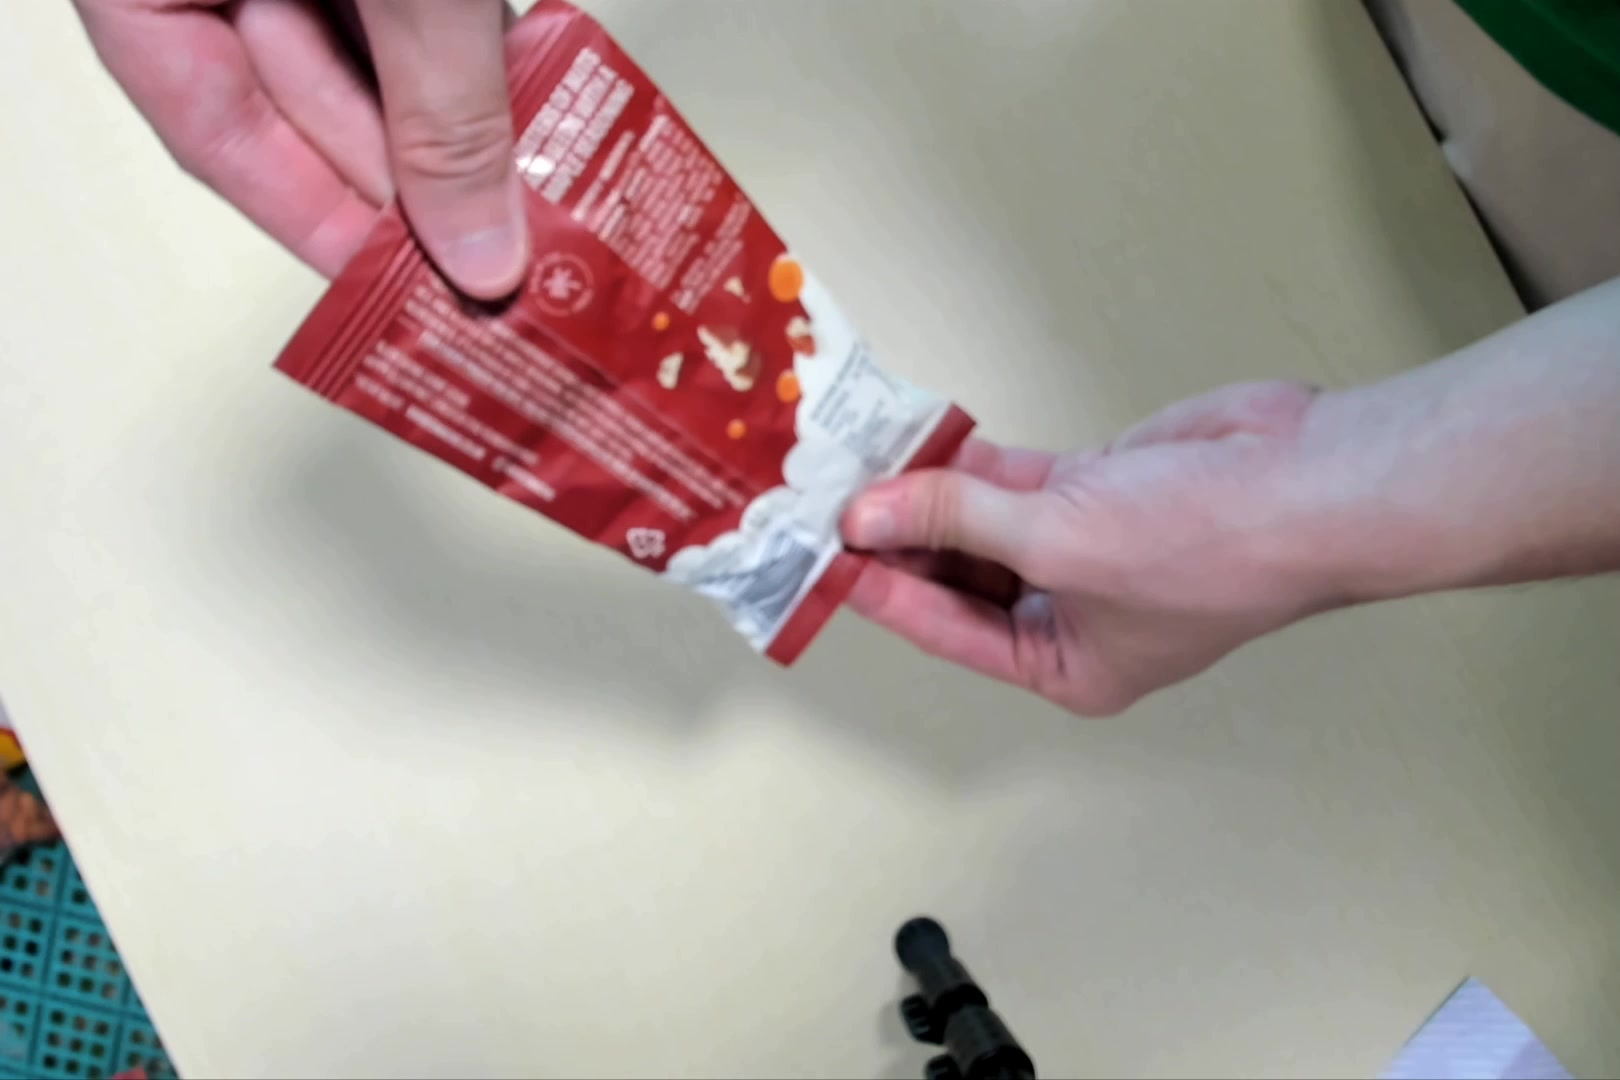Nuts_0-99g_NonHalal_NonHealthy: (258, 30, 976, 667)
